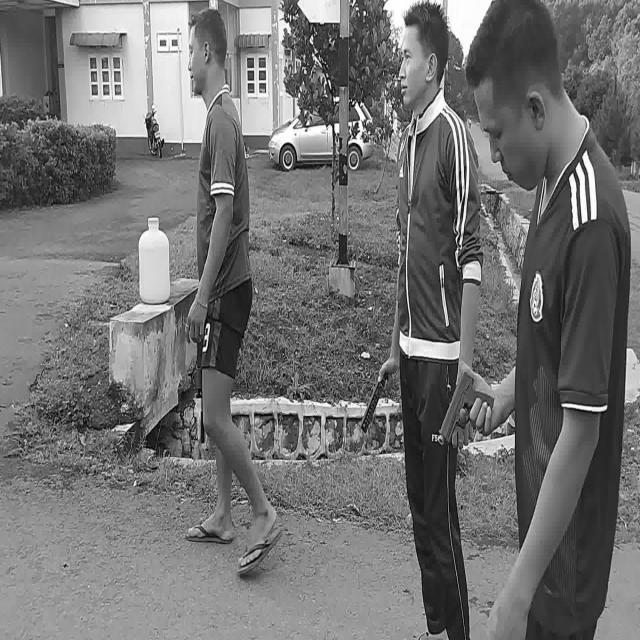gun: (438, 372, 494, 444), (196, 342, 205, 442)
